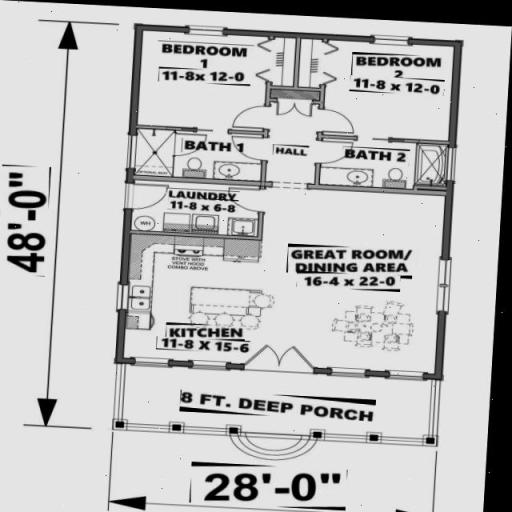bathroom: (131, 128, 280, 192), (294, 136, 447, 192)
bedroom: (320, 37, 464, 140), (144, 30, 284, 131)
hall: (279, 192, 438, 370)
kitchen: (144, 238, 274, 362)
laundary: (136, 185, 271, 240)
porch: (132, 373, 437, 438)
